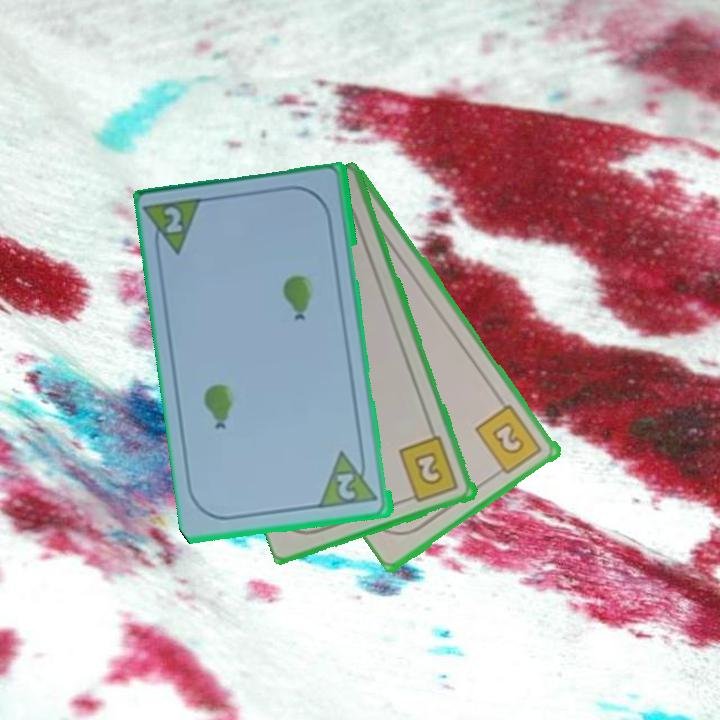2b: (472, 401, 546, 480), (396, 433, 462, 506)
2p: (333, 470, 360, 503), (161, 203, 187, 237)
